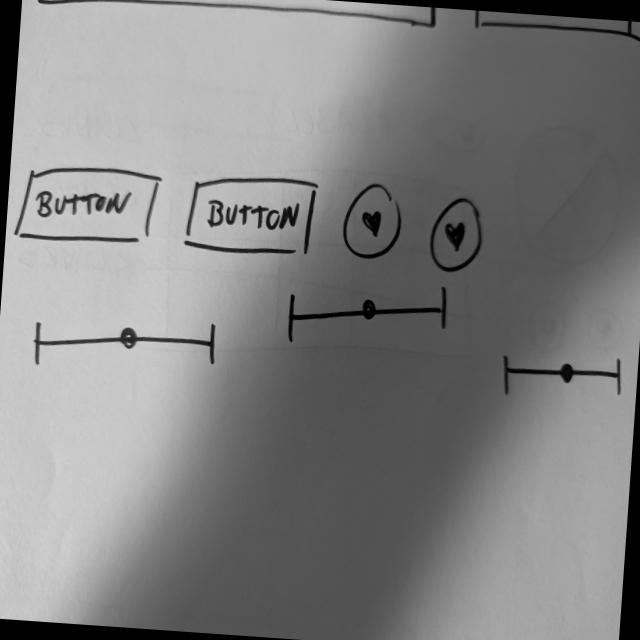button: (12, 161, 166, 251), (182, 168, 322, 261)
icon-button: (338, 179, 408, 266), (425, 193, 491, 275)
slider: (282, 272, 455, 356), (33, 305, 222, 378), (497, 351, 631, 407)
